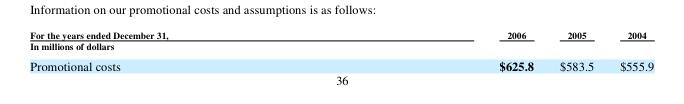table: (29, 28, 653, 72)
table column: (29, 28, 333, 72), (333, 28, 545, 72), (545, 28, 606, 72), (606, 28, 653, 72)
table column header: (29, 28, 653, 40)
table projected row header: (29, 40, 653, 54)
table row: (29, 54, 653, 72), (29, 40, 653, 54), (29, 28, 653, 40)
